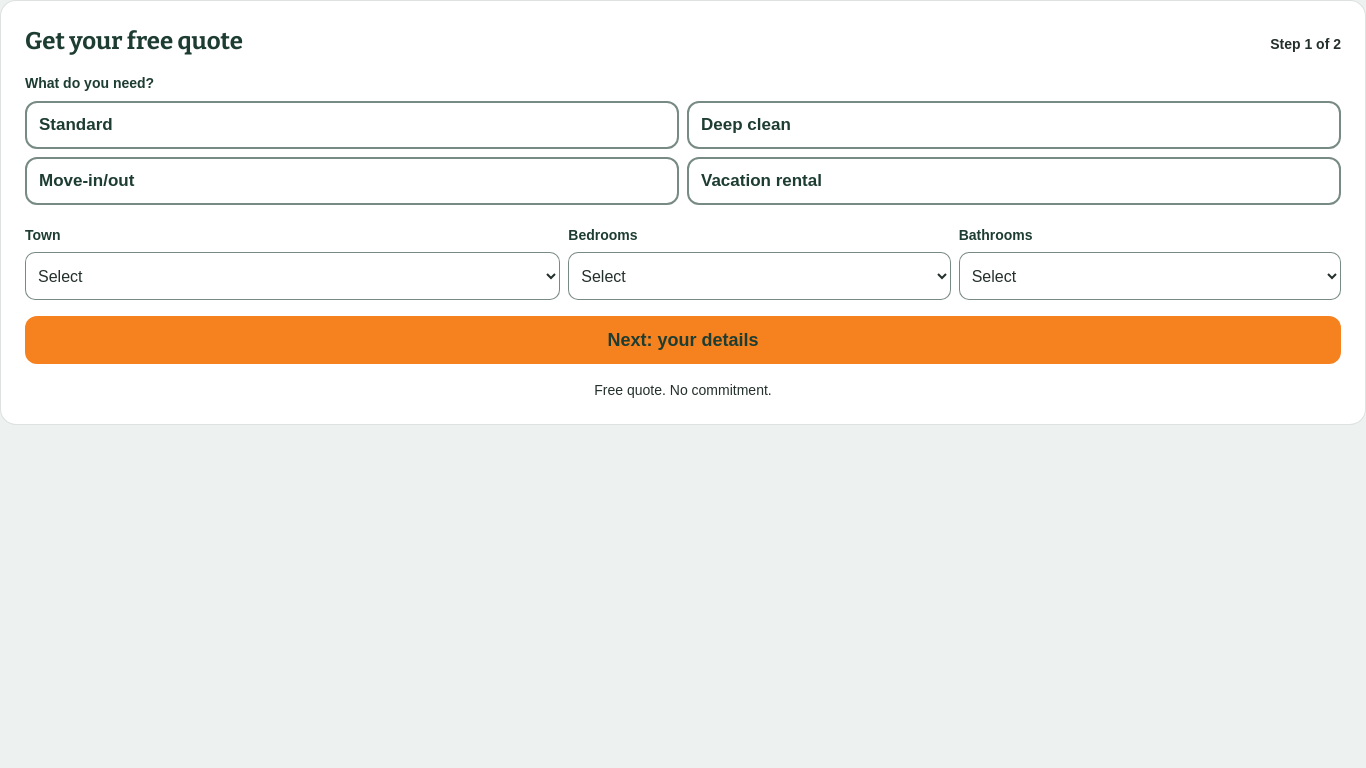
Test: QuoteForm step 2 › shows what's missing without sending
Click the radio button labelled "Deep clean" at (746, 125), box 687,101 -> 1341,149
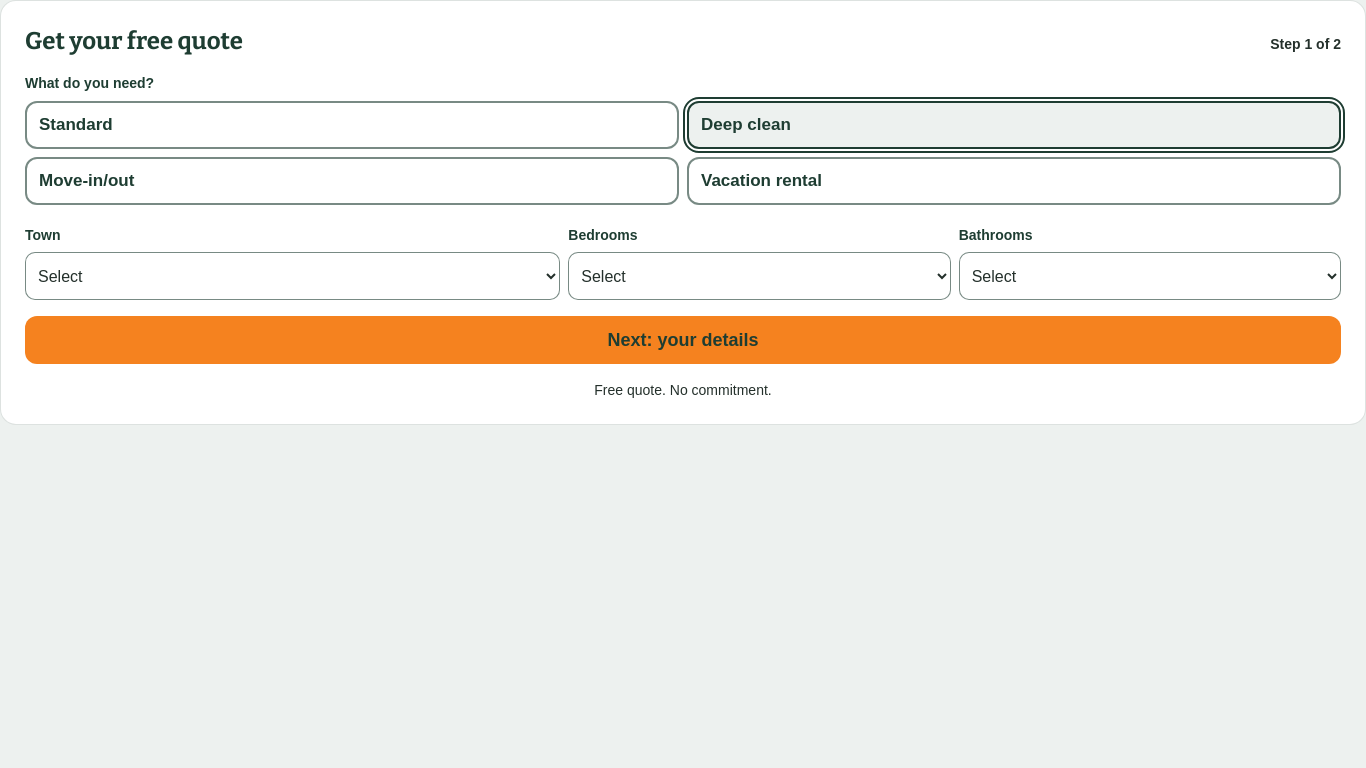
Select "Mill Valley" in the dropdown labelled "Town" at (293, 276), box 25,252 -> 560,300
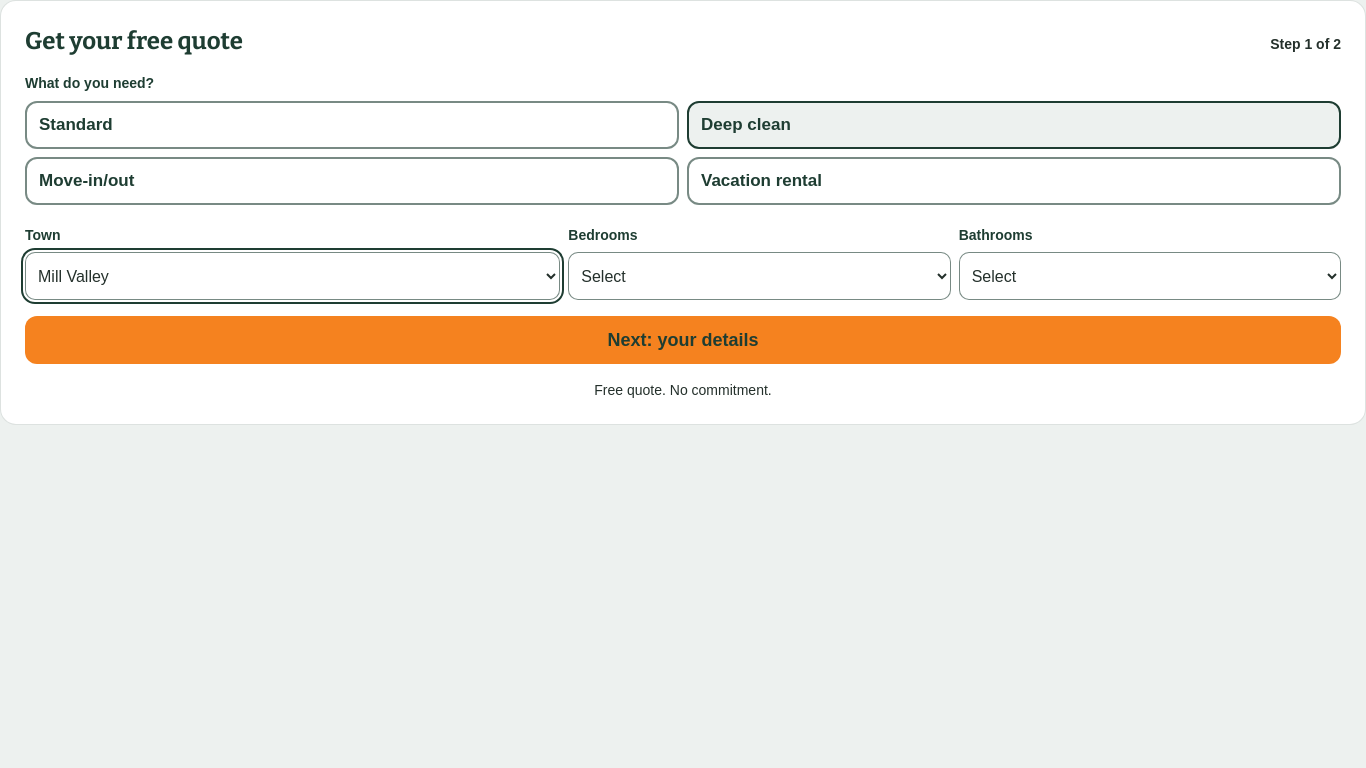
Select "3" in the dropdown labelled "Bedrooms" at (760, 276), box 568,252 -> 951,300
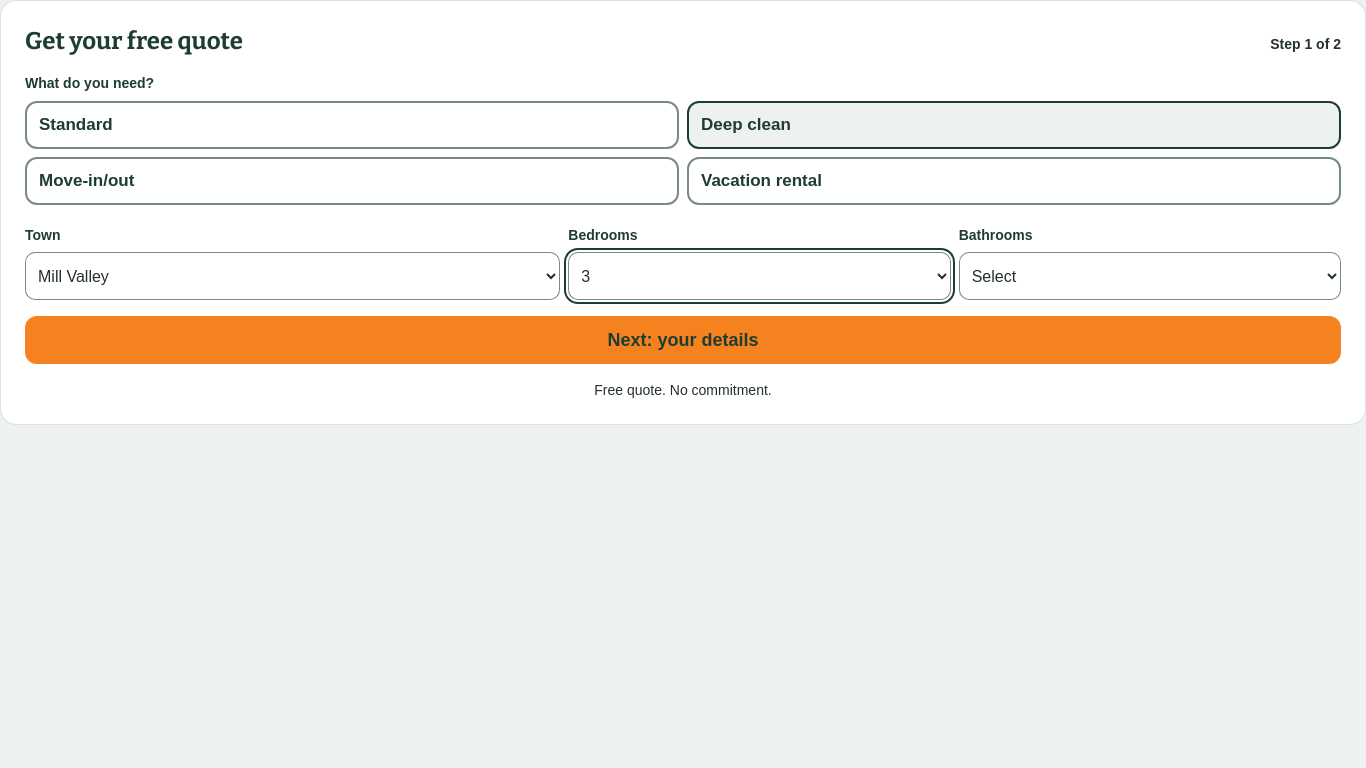
Select "2" in the dropdown labelled "Bathrooms" at (1150, 276), box 959,252 -> 1341,300
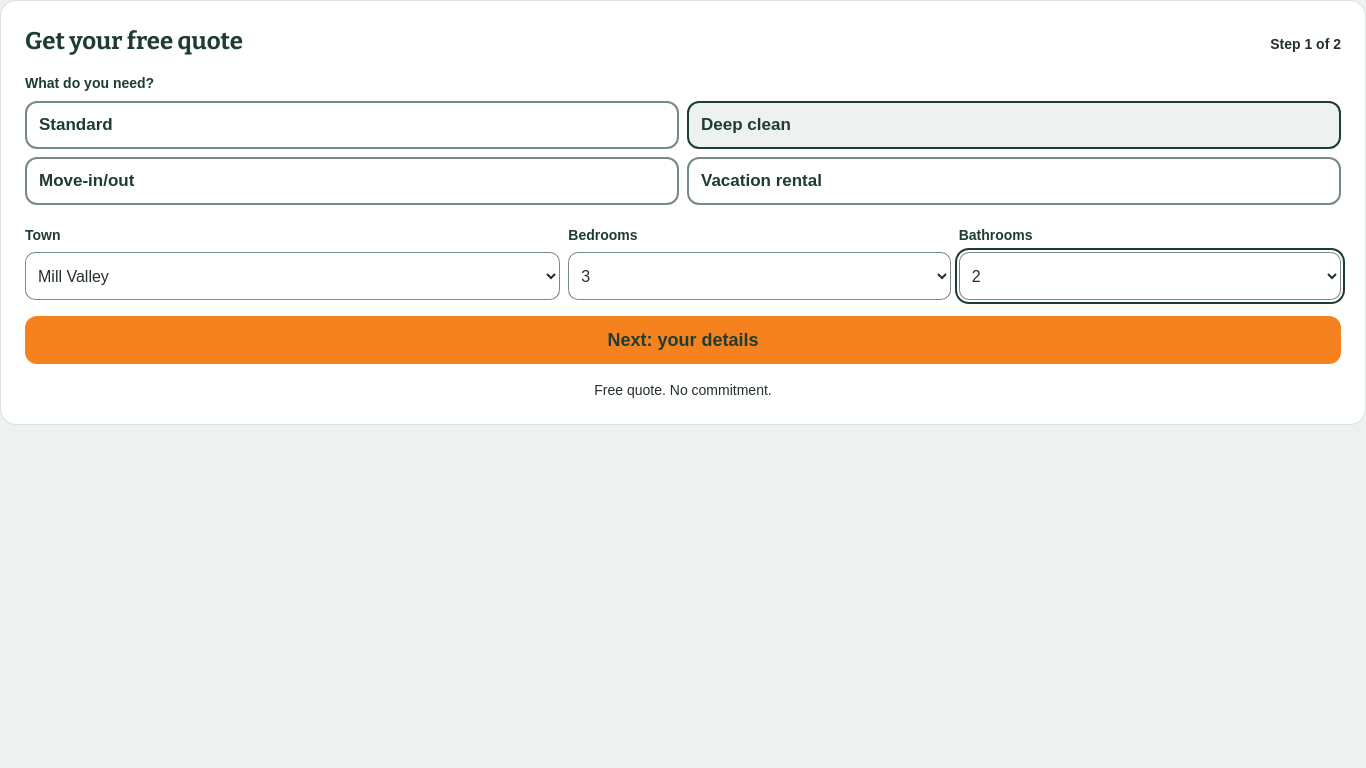
Click the button "Next: your details" at (683, 340), box 25,316 -> 1341,364
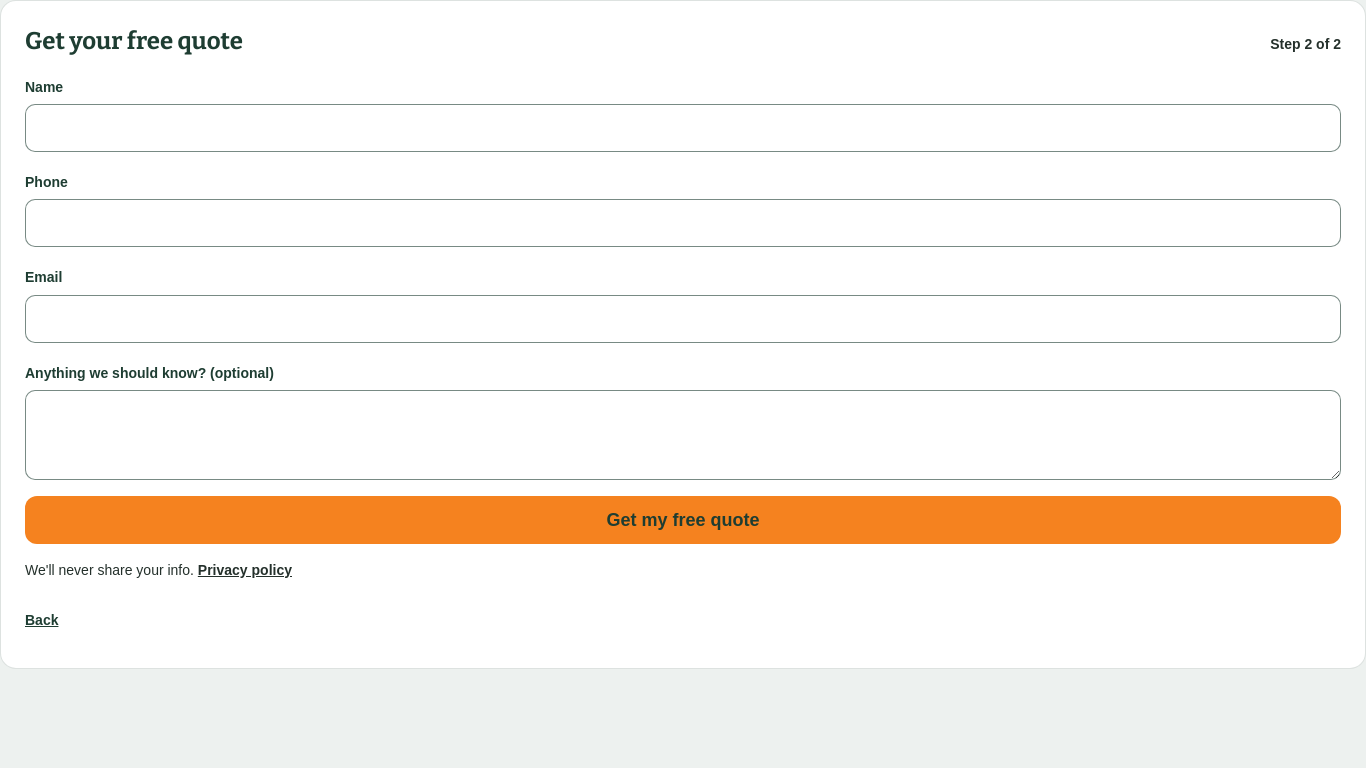
Click the button "Get my free quote" at (683, 520), box 25,496 -> 1341,544
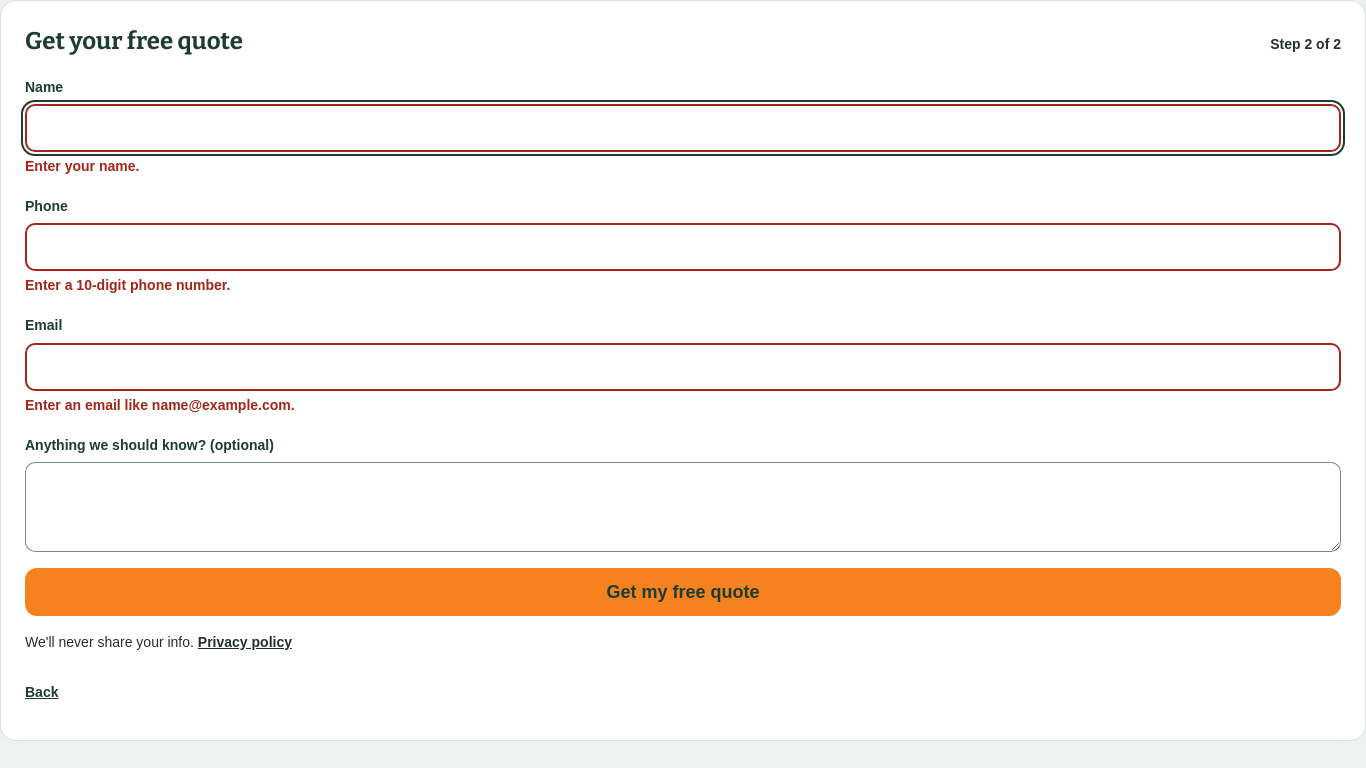
Expected: the text "Enter your name." is shown, 25,158 -> 139,174
Expected: the text "Enter a 10-digit phone number." is shown, 25,277 -> 230,293
Expected: the text "Enter an email like name@example.com." is shown, 25,397 -> 295,413
